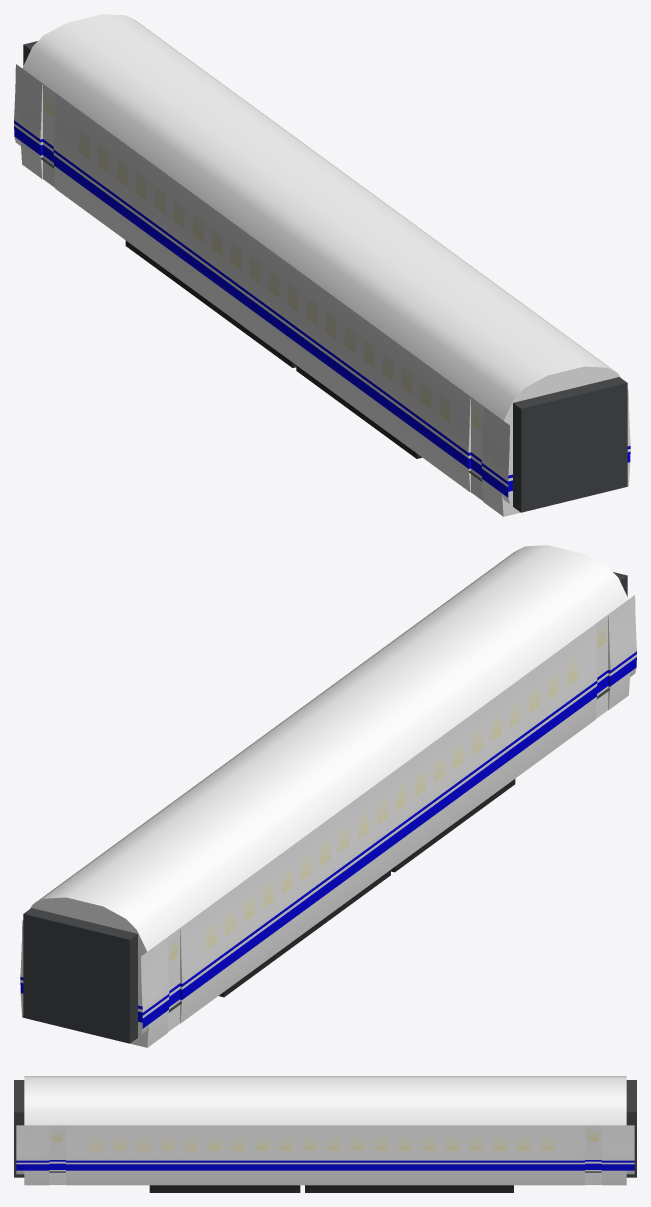
3 renders of one model, top to bottom at view 1: azimuth 30°, elevation 25°; view 2: azimuth 150°, elevation 25°; view 3: azimuth 270°, elevation 25°, orthographic. The views are drawn at different scales.
Visible parts, largest first — view 1: obj2; view 2: obj2; view 3: obj2.
Part boxes in pixels (x1,y1,x2,y2): obj2: (14,14,630,516); obj2: (20,545,636,1047); obj2: (14,1076,636,1192).
Size of the model in its own units: 6.49 by 7.19 by 43.43.
Materials: 5 (5 with a texture image).
